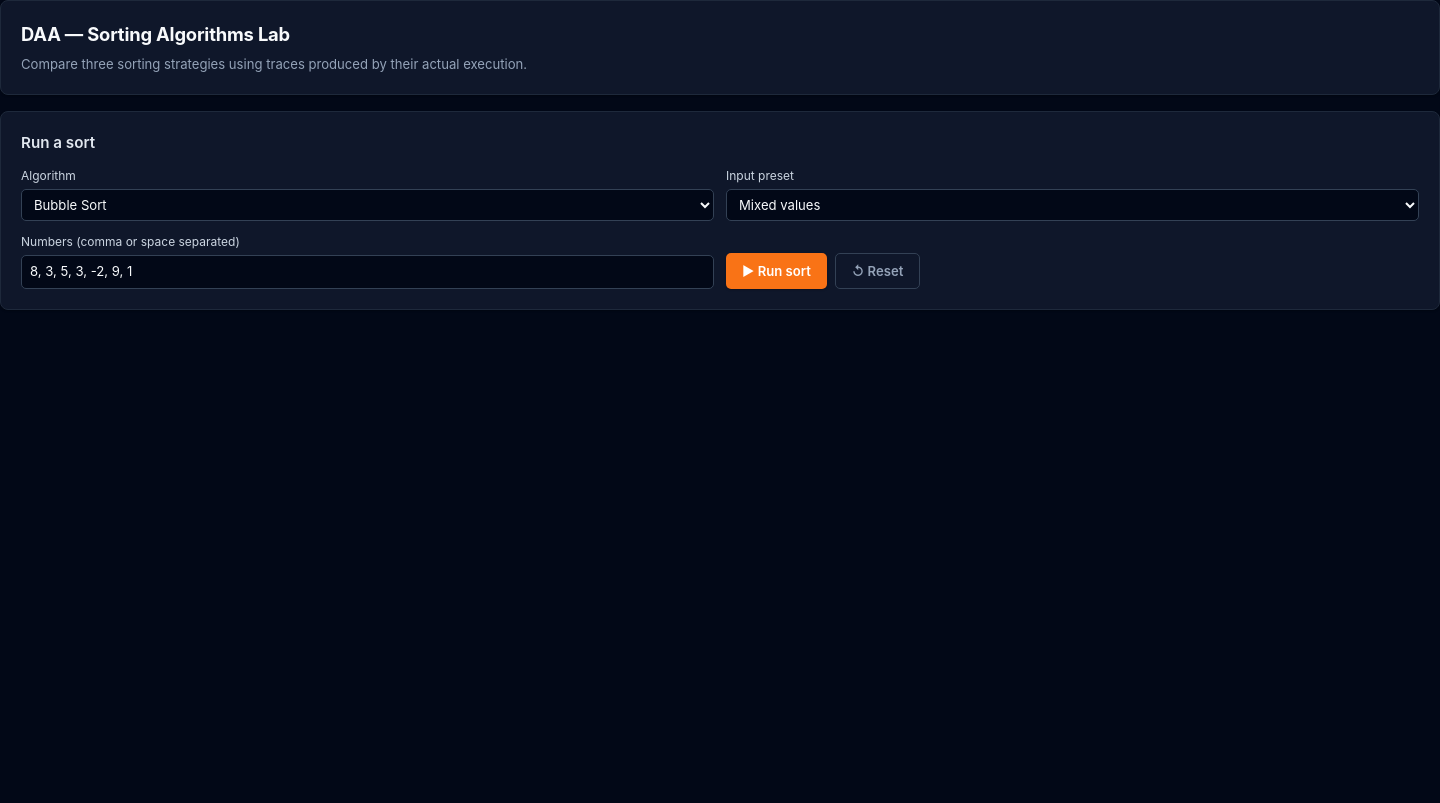
Scenario: SortingLab › runs insertion sort and shows result and operation evidence
Select "Insertion Sort" in the dropdown named "Sorting algorithm" at (368, 205), box x1=21 y1=189 x2=714 y2=221
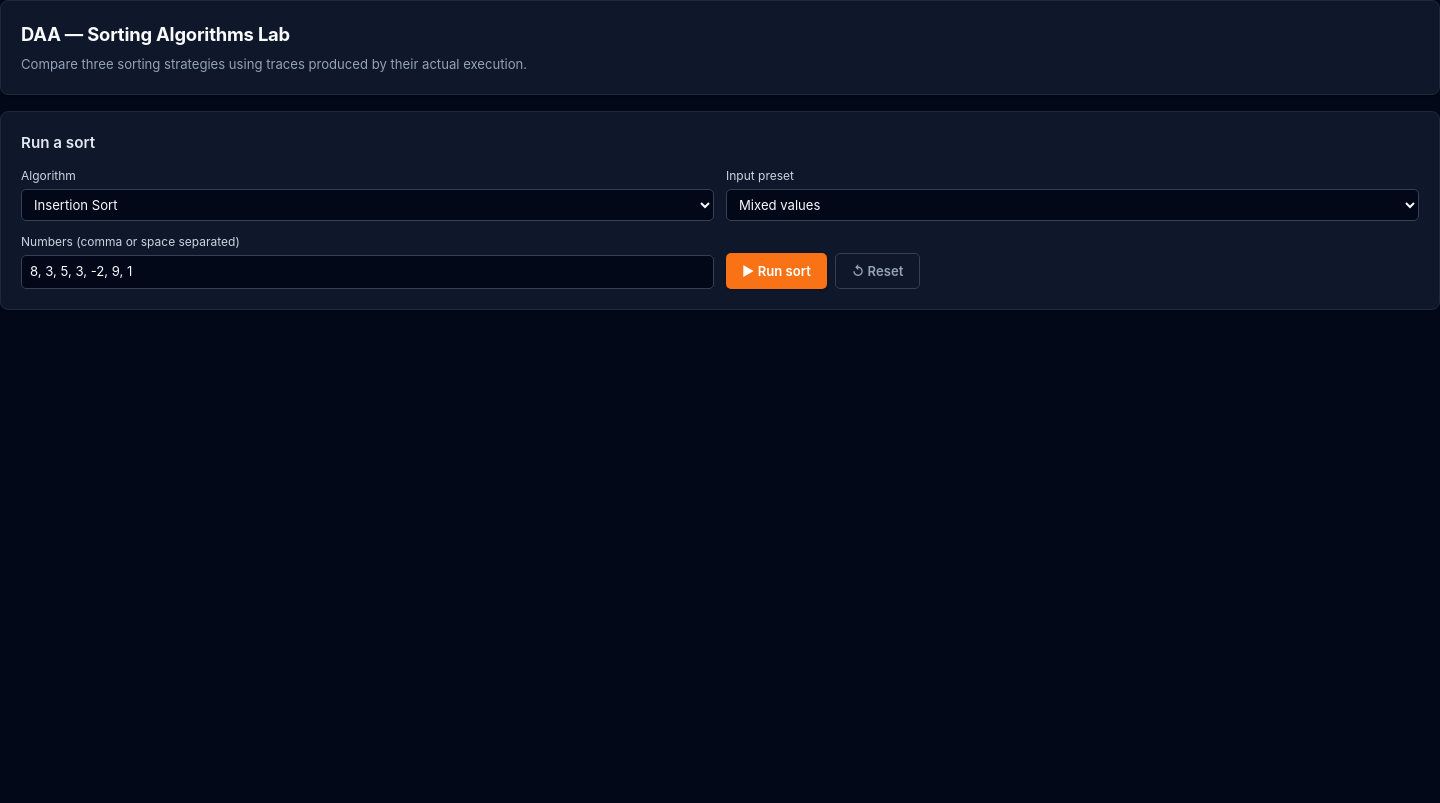
Replace the text in the field named "Numeric input" with "3, 1, 2, 1" at (368, 272), box x1=21 y1=255 x2=714 y2=289
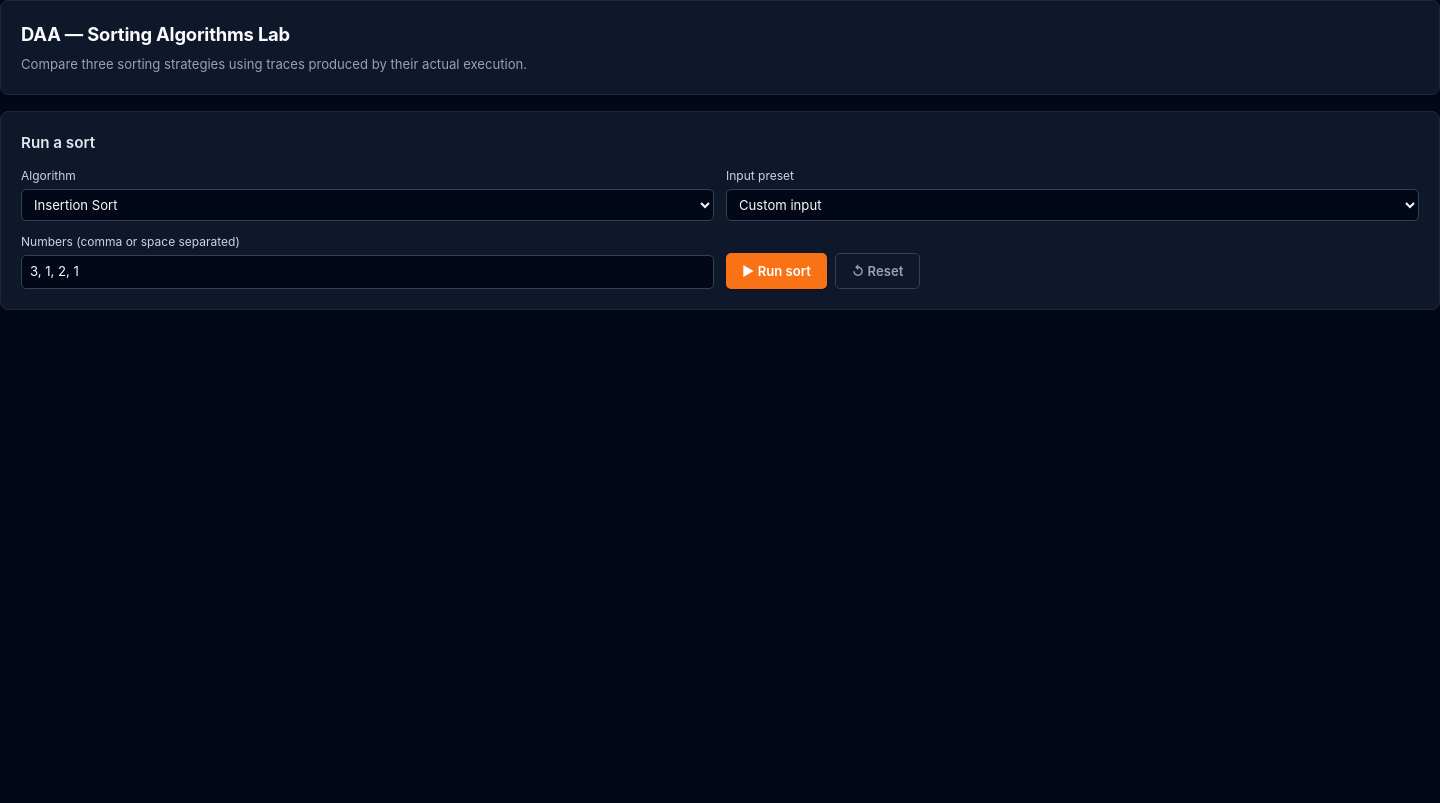
Click the button "▶ Run sort".
click(776, 271)  # box x1=726 y1=253 x2=827 y2=289
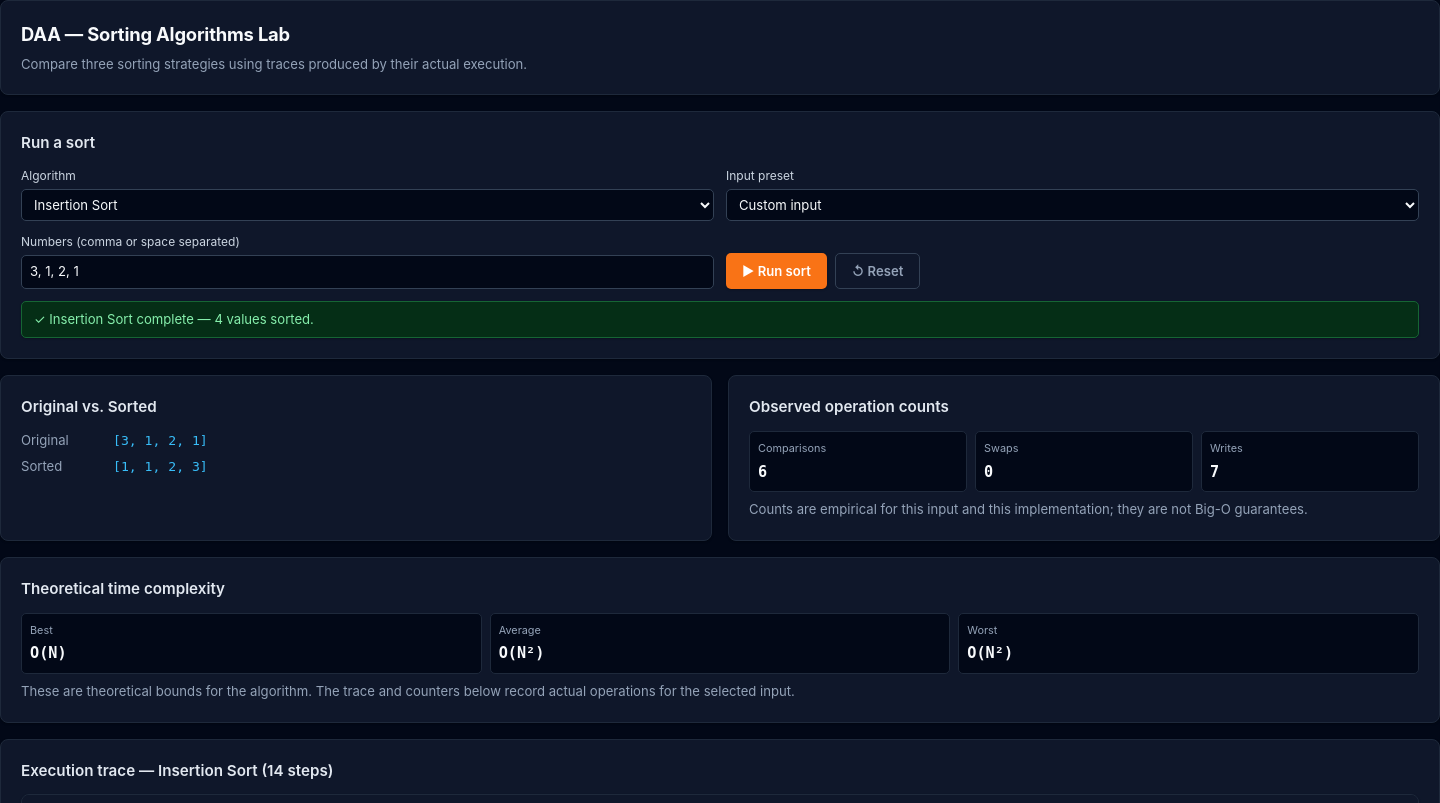
Check: the element "Original vs. Sorted" shows "[3, 1, 2, 1]", box x1=113 y1=433 x2=208 y2=448
Check: the element "Original vs. Sorted" shows "[1, 1, 2, 3]", box x1=113 y1=459 x2=208 y2=474
Check: the element "Theoretical time complexity" shows "O(N²)", box x1=499 y1=644 x2=544 y2=662
